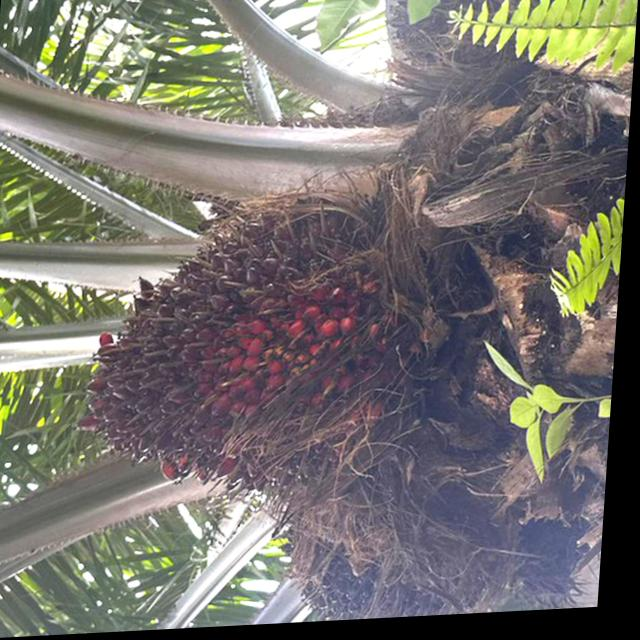ripe: (70, 178, 427, 516)
